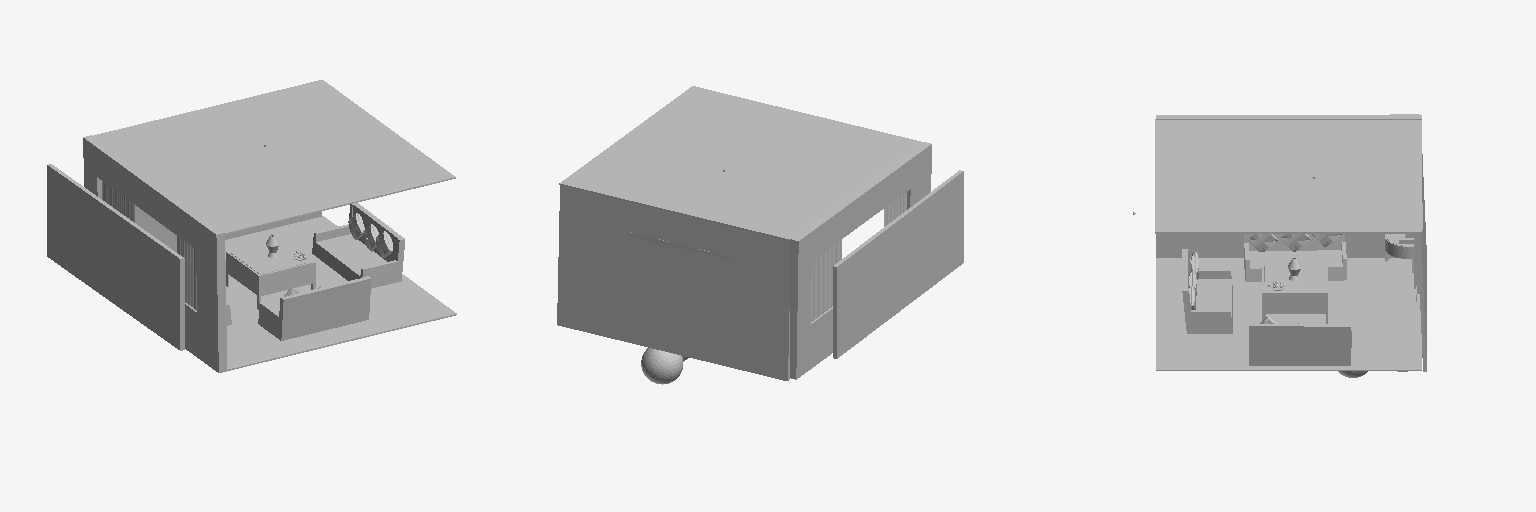
The model's file is Seating hall.obj.
3 renders of one model, left to right at view 1: azimuth 30°, elevation 25°; view 2: azimuth 150°, elevation 25°; view 3: azimuth 270°, elevation 25°, orthographic.
Parts seen in each view (by area): view 1: Object49, Object63, Object8, Object10, Object23, Object32, Object30, Object31, Object9, Object12, Object51; view 2: Object9, Object49, Object63, Object10, Object51, Object72; view 3: Object49, Object8, Object32, Object10, Object23, Object39, Object30, Object31, Object9.
Boxes of the visible parts, x1,y1,x2,y2 form: Object49: [93, 80, 455, 234]; Object63: [47, 164, 184, 350]; Object8: [225, 216, 456, 371]; Object10: [83, 135, 226, 372]; Object23: [258, 276, 370, 340]; Object32: [312, 203, 404, 288]; Object30: [226, 238, 315, 309]; Object31: [230, 239, 312, 274]; Object9: [135, 205, 321, 251]; Object12: [177, 236, 196, 310]; Object51: [102, 181, 134, 222]; Object9: [557, 185, 789, 380]; Object49: [559, 86, 921, 240]; Object63: [833, 170, 963, 358]; Object10: [790, 142, 931, 379]; Object51: [811, 240, 840, 321]; Object72: [641, 348, 682, 384]; Object49: [1155, 119, 1421, 233]; Object8: [1156, 258, 1421, 370]; Object32: [1249, 323, 1351, 365]; Object10: [1156, 115, 1421, 257]; Object23: [1182, 249, 1232, 333]; Object39: [1244, 234, 1346, 281]; Object30: [1262, 265, 1327, 323]; Object31: [1265, 266, 1325, 291]; Object9: [1417, 154, 1426, 371].
Bounding box in the file's own units: 68.14 × 43.36 × 62.51.